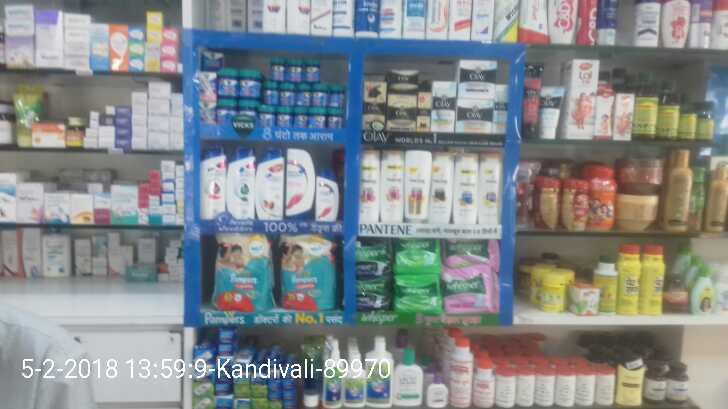vicks: (197, 46, 346, 130)
